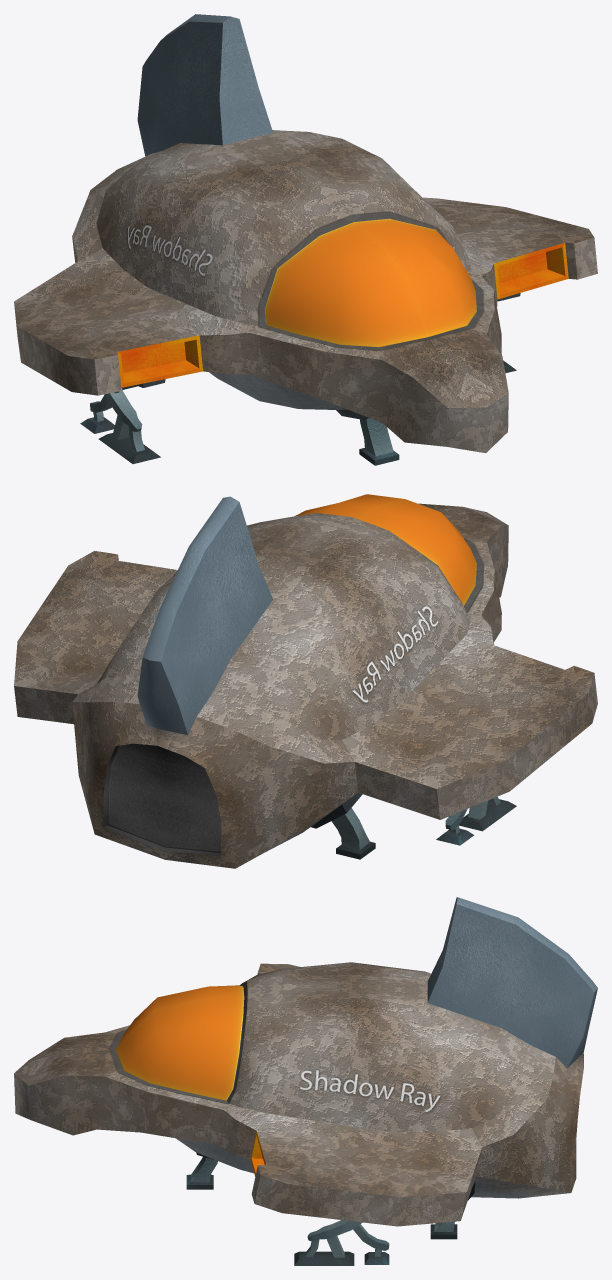
File: Ship.obj
3 views of the same model, one above another, from view 1: azimuth 30°, elevation 25°; view 2: azimuth 150°, elevation 25°; view 3: azimuth 270°, elevation 25° (orthographic). The views are drawn at different scales.
Parts seen in each view (by area): view 1: Ship; view 2: Ship; view 3: Ship.
Part boxes in pixels (x1,y1,x2,y2): Ship: (14, 14, 597, 465); Ship: (14, 494, 597, 868); Ship: (14, 897, 597, 1265).
Size of the model in its own units: 9.26 by 5.64 by 10.38.
1 material, 1 textured.
